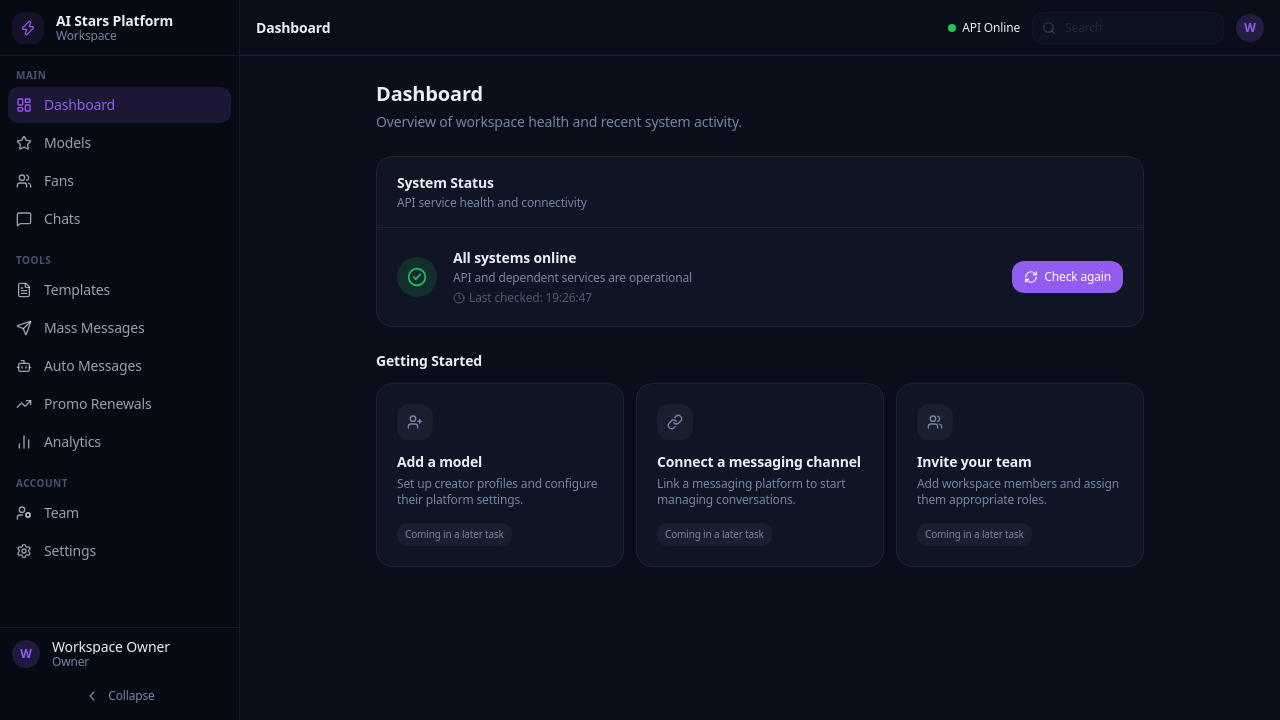
Test: Application shell › 5. Navigation does not cause a full browser reload
expect the heading "Dashboard" is shown: met, box 376,80 -> 483,107
Step 1. Click the link "Models" → (54, 142), box 16,133 -> 91,152
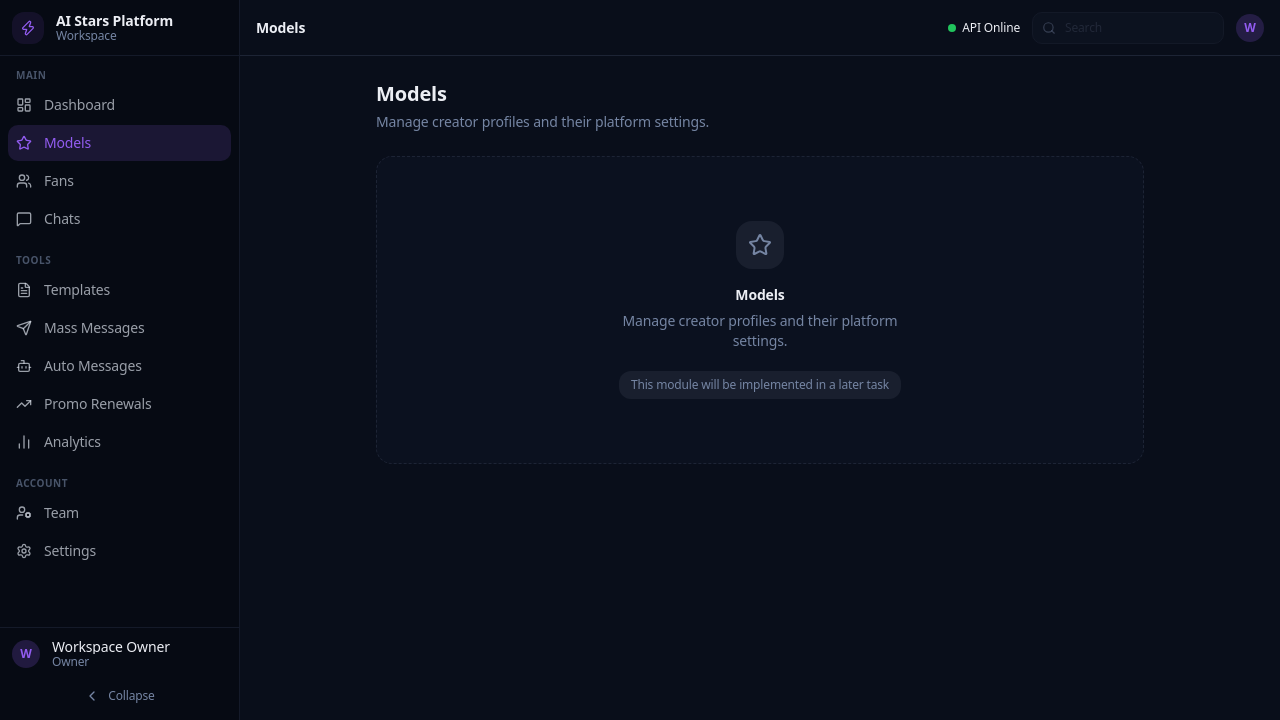
expect the heading "Models" is shown: met, box 376,80 -> 447,107
